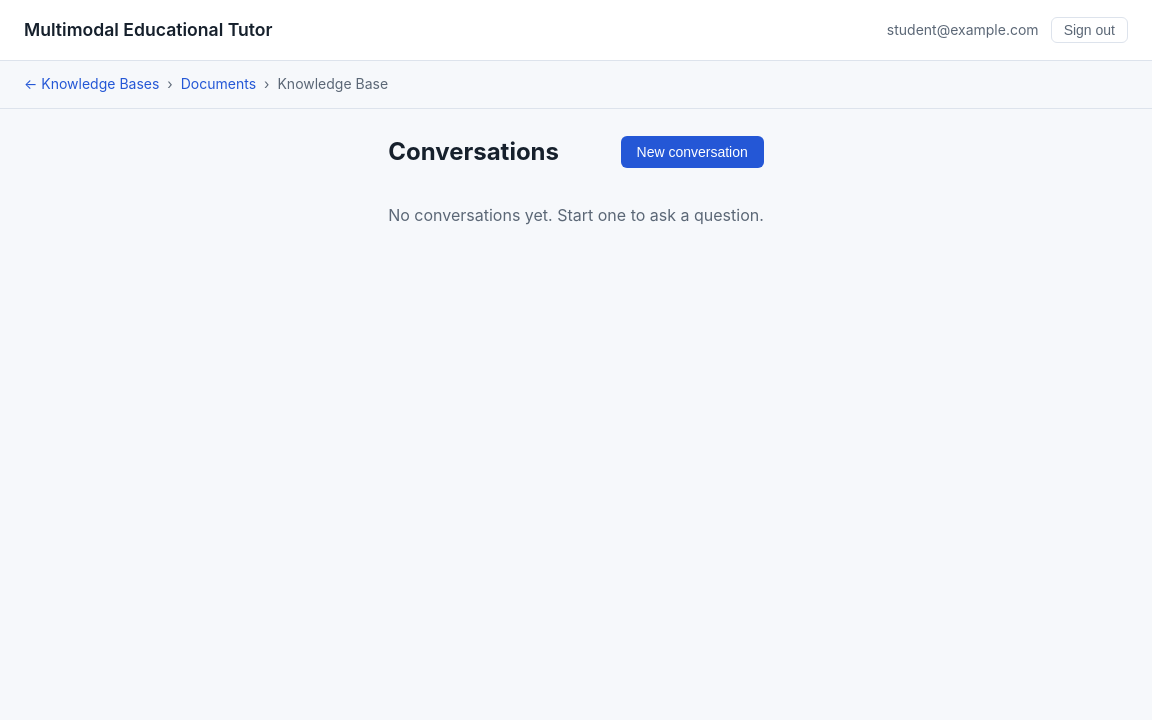
Test: Conversation list › creates a conversation and navigates to the chat page
Expected: the heading "Conversations" is shown, [388,132,559,171]
Click the button "New conversation" at (692,152), box [620,136,764,168]
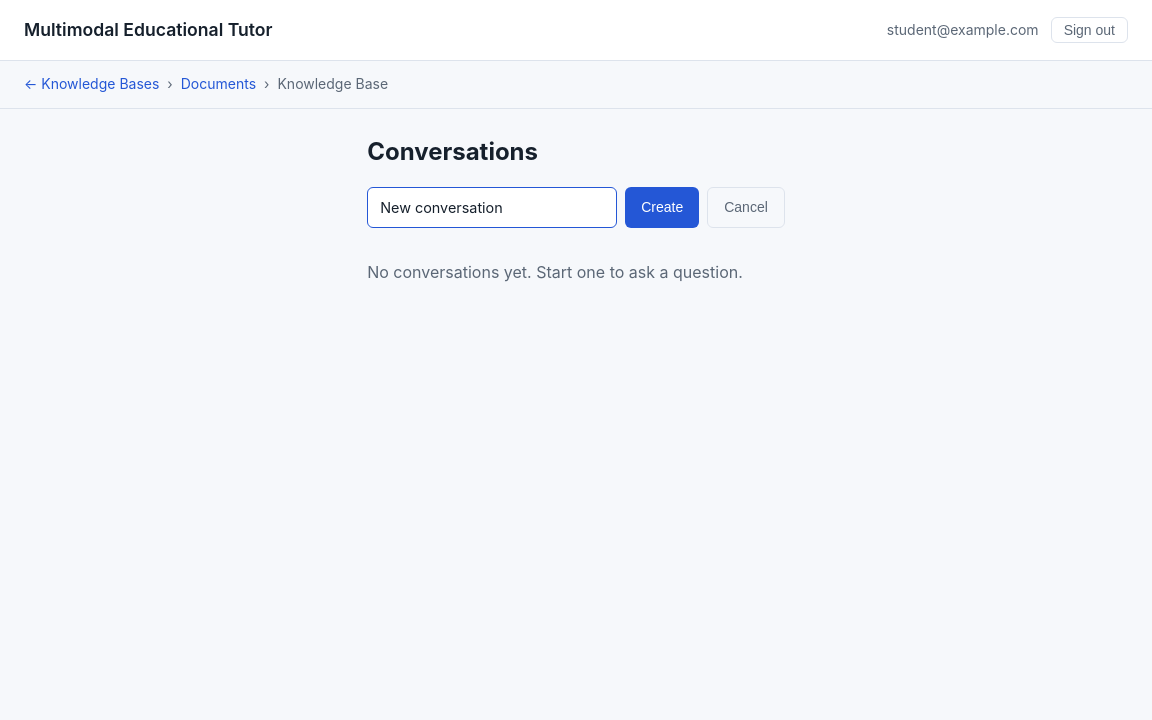
Replace the text in the field named "Conversation title" with "Deep learning basics" at (492,207), box [367,187,617,228]
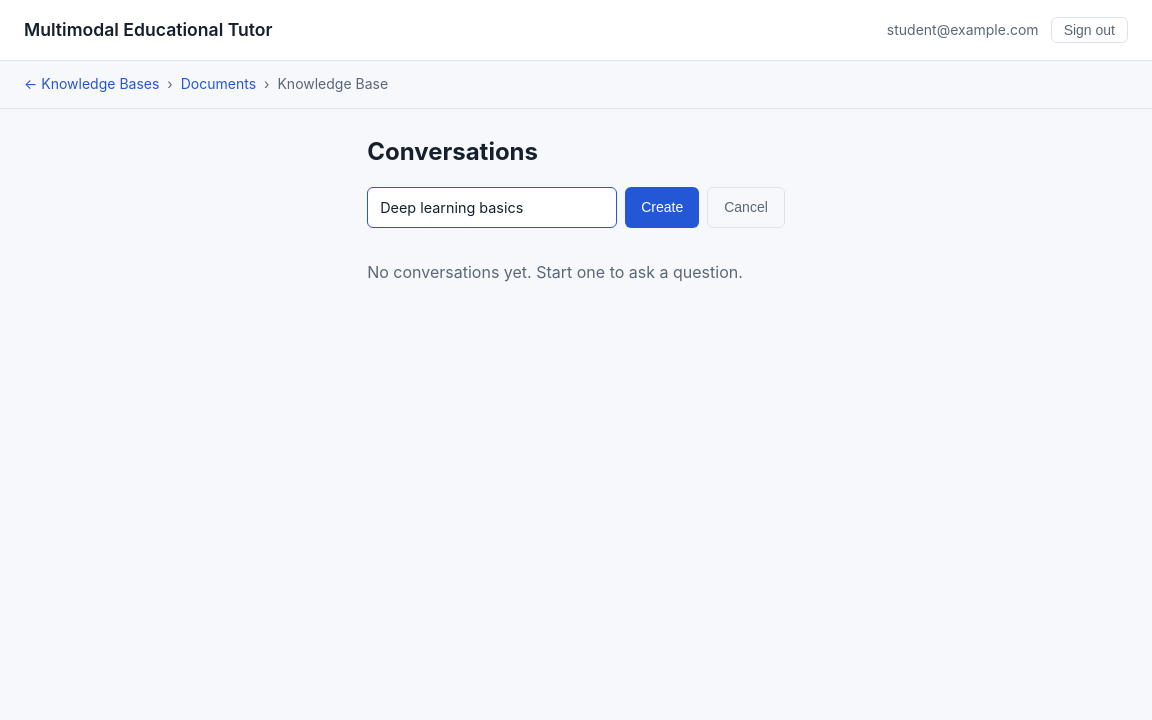
Click the button "Create" at (662,207), box [625,187,699,228]
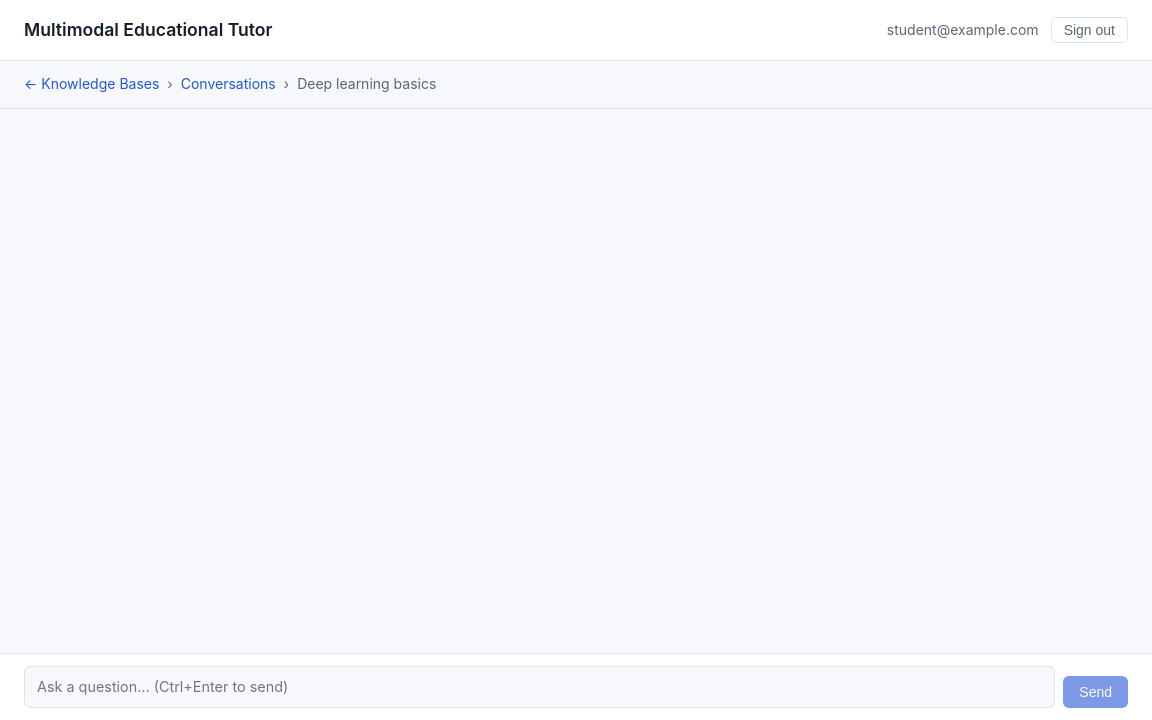
Expected: the text box named "Your question" is shown, [24,666,1055,708]
